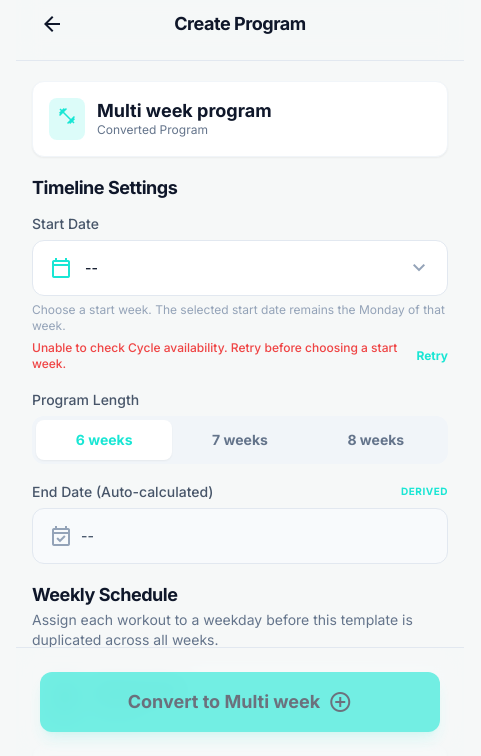
Test: ManualConvert earliest Cycle start availability › Retry restarts the search and selects the earliest verified start without a fetch loop
This screenshot has width=481, height=756.
Expected: the text "Unable to check Cycle availability" is shown, [32,340,397,370]
Click the button "Retry". click: (432, 356)
box: [416,348,448,364]
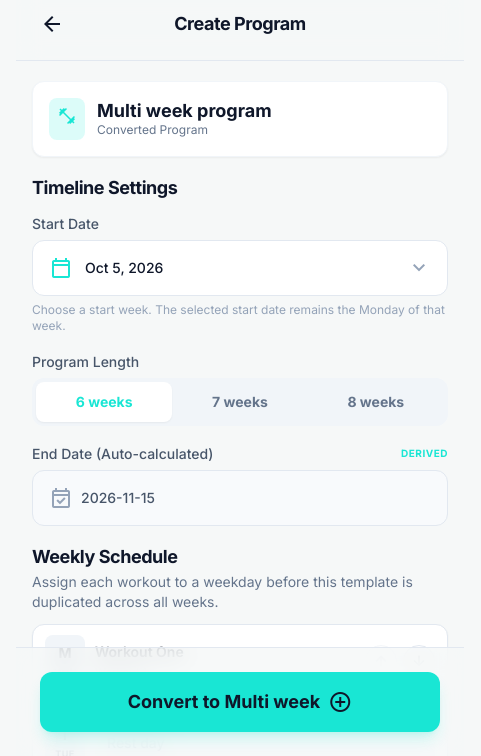
Result: the button with aria-label "Select start week" reads "Oct 5, 2026" at [32,240,448,296]
